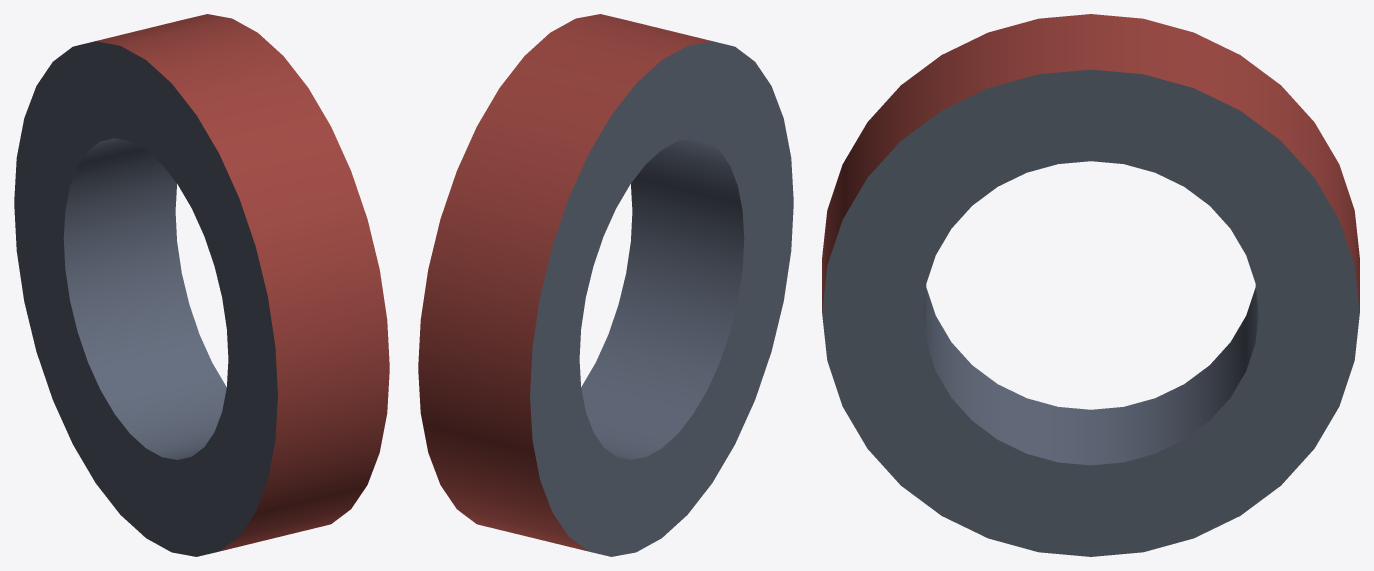
File: SmallTapeRoll_01.fbx
3 views of the same model, side by side, from view 1: azimuth 30°, elevation 25°; view 2: azimuth 150°, elevation 25°; view 3: azimuth 270°, elevation 25° (orthographic).
Visible parts, largest first — view 1: Dubbleadhesive; view 2: Dubbleadhesive; view 3: Dubbleadhesive.
Part boxes in pixels (left/top/right/bottom): Dubbleadhesive: left=14, top=14, right=389, bottom=556; Dubbleadhesive: left=418, top=14, right=793, bottom=556; Dubbleadhesive: left=822, top=14, right=1359, bottom=556.
Bounding box in the file's own units: 2.8 × 11.45 × 11.45.
